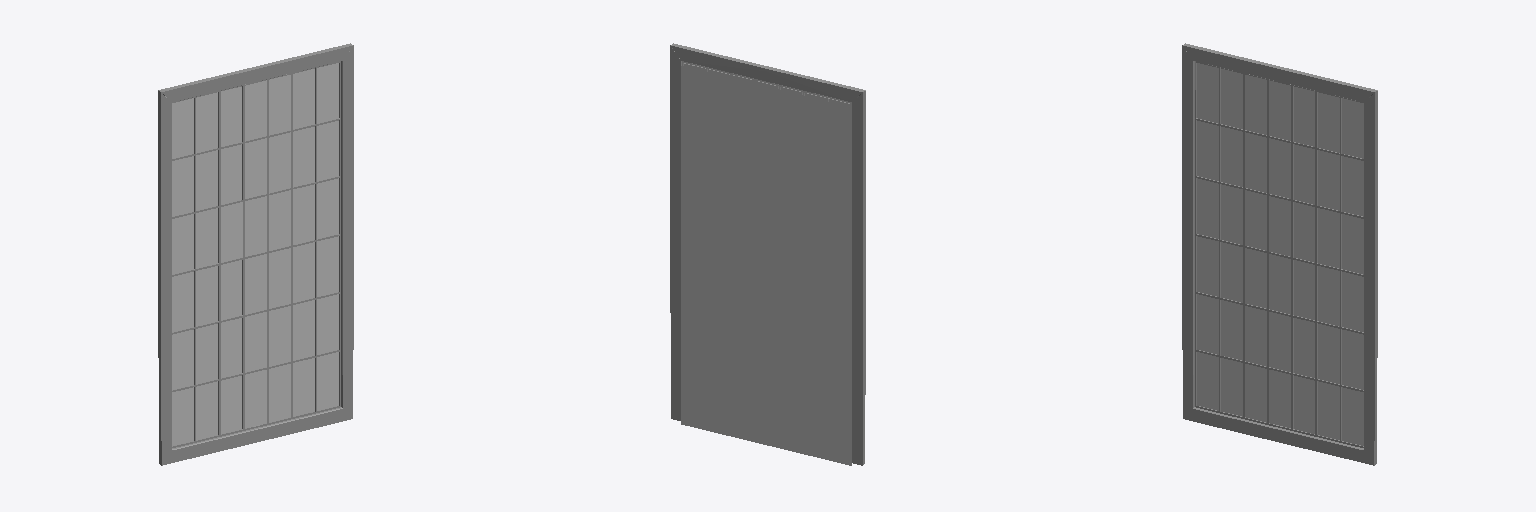
File: window-generic.obj
3 views of the same model, side by side, from view 1: azimuth 30°, elevation 25°; view 2: azimuth 150°, elevation 25°; view 3: azimuth 330°, elevation 25° (orthographic).
Visible parts, largest first — view 1: Plane, Line040; view 2: Plane.001_Plane.004, Line040, Plane; view 3: Plane, Line040.
Boxes of the visible parts, box(x1,y1,x2,y2) form: Plane: box(172, 63, 338, 445); Line040: box(158, 43, 353, 465); Plane.001_Plane.004: box(681, 66, 851, 465); Line040: box(670, 43, 865, 465); Plane: box(682, 61, 851, 106); Plane: box(1195, 61, 1363, 445); Line040: box(1182, 43, 1377, 465).
Size of the model in its own units: 112 by 209 by 2.97.